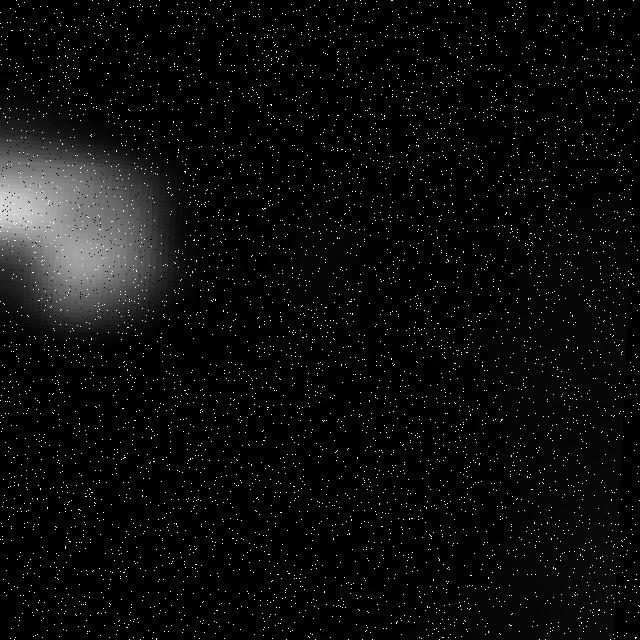person: (1, 117, 305, 361)
